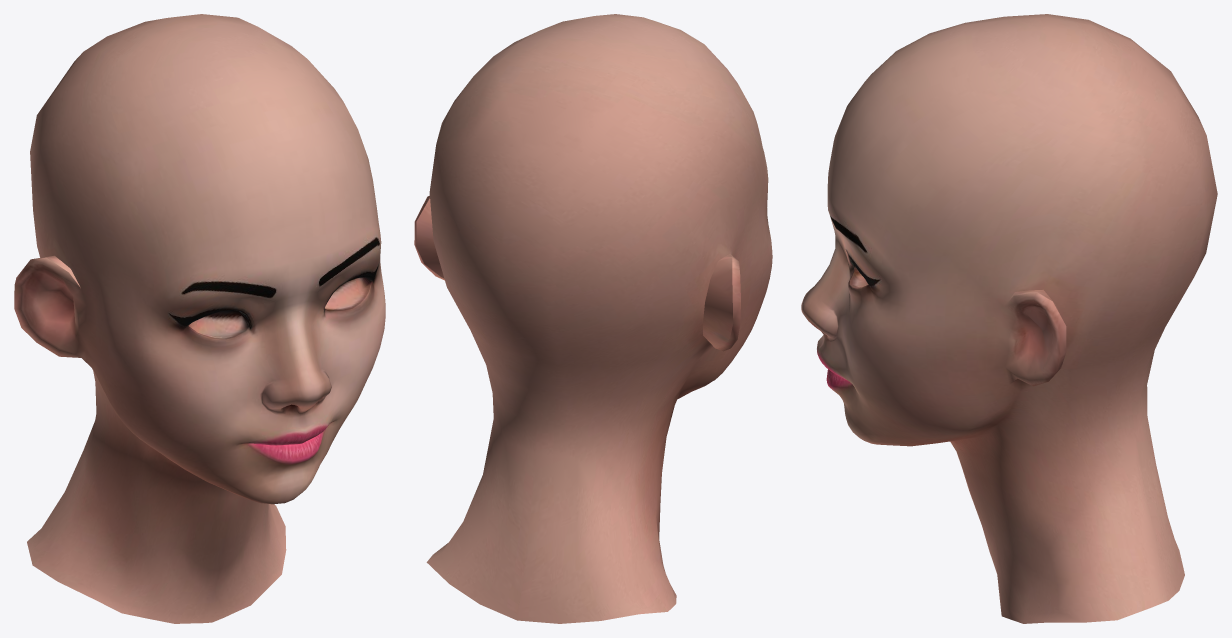
The model's file is makyaj3.glb.
The picture shows the model from 3 angles, left to right: view 1: azimuth 30°, elevation 25°; view 2: azimuth 150°, elevation 25°; view 3: azimuth 270°, elevation 25°; orthographic projection. The views are drawn at different scales.
Visible parts, largest first — view 1: Wolf3D_Head; view 2: Wolf3D_Head; view 3: Wolf3D_Head.
Boxes of the visible parts, x1,y1,x2,y2 form: Wolf3D_Head: [14, 14, 385, 623]; Wolf3D_Head: [414, 14, 772, 623]; Wolf3D_Head: [801, 14, 1217, 623].
Bounding box in the file's own units: 0.1899 × 0.3109 × 0.2036.
1 material, 1 textured.
